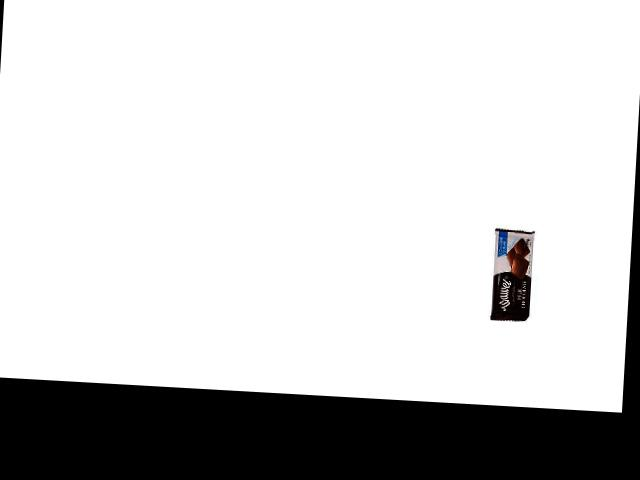chocolate: (488, 227, 536, 321)
